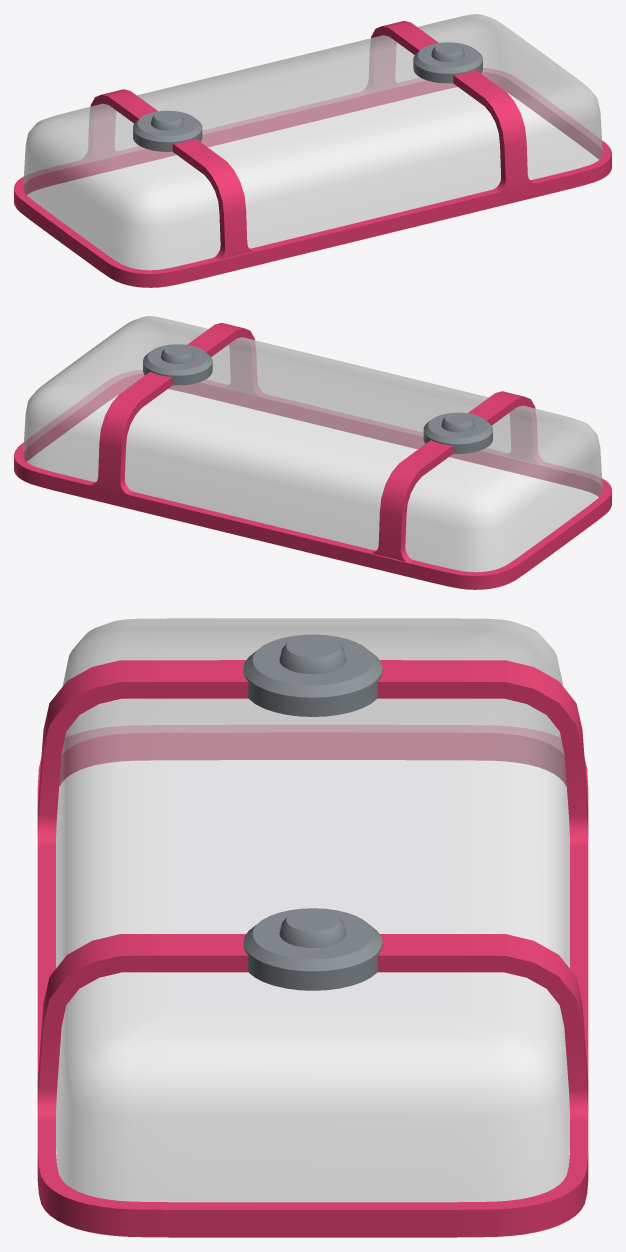
File: hop_l_2.fbx
The picture shows the model from 3 angles, top to bottom: view 1: azimuth 30°, elevation 25°; view 2: azimuth 150°, elevation 25°; view 3: azimuth 270°, elevation 25°; orthographic projection. The views are drawn at different scales.
Parts seen in each view (by area): view 1: Cube.127, Cube.128, Cylinder, Cylinder.026; view 2: Cube.127, Cube.128, Cylinder, Cylinder.026; view 3: Cube.127, Cube.128, Cylinder, Cylinder.026.
Boxes of the visible parts, x1,y1,x2,y2 form: Cube.127: (23,14,602,270); Cube.128: (14,21,611,287); Cylinder: (413,42,482,83); Cylinder.026: (133,110,202,151); Cube.127: (23,316,602,572); Cube.128: (14,323,611,589); Cylinder: (143,344,212,385); Cylinder.026: (423,412,492,453); Cube.127: (56,618,569,1202); Cube.128: (37,660,588,1237); Cylinder: (243,908,382,990); Cylinder.026: (243,634,382,716).
Size of the model in its own units: 377 by 75 by 181.
